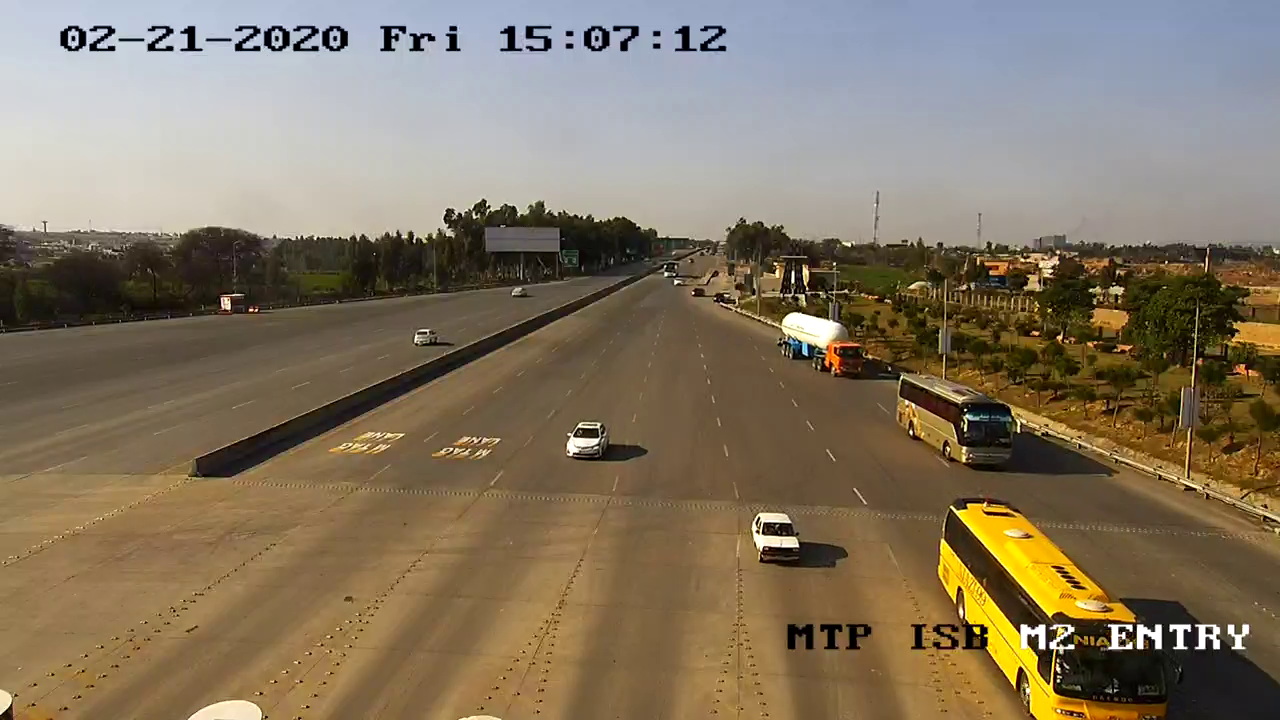f1: (735, 500, 808, 574), (554, 416, 615, 471)
f4: (937, 495, 1189, 720), (889, 366, 1025, 480)
f6: (765, 308, 871, 386)
